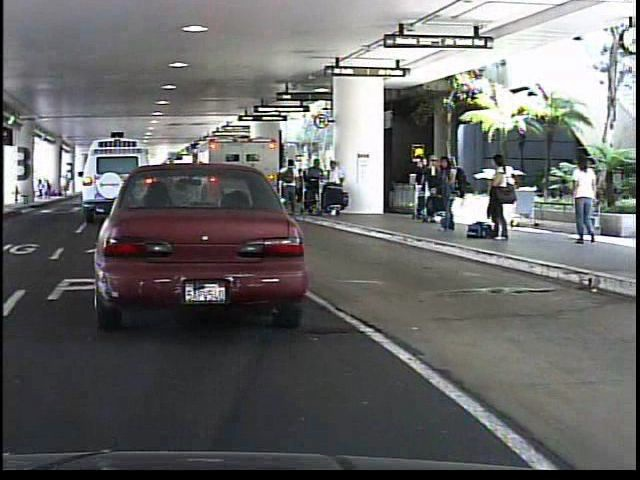person: (564, 153, 602, 247), (481, 150, 509, 243)
